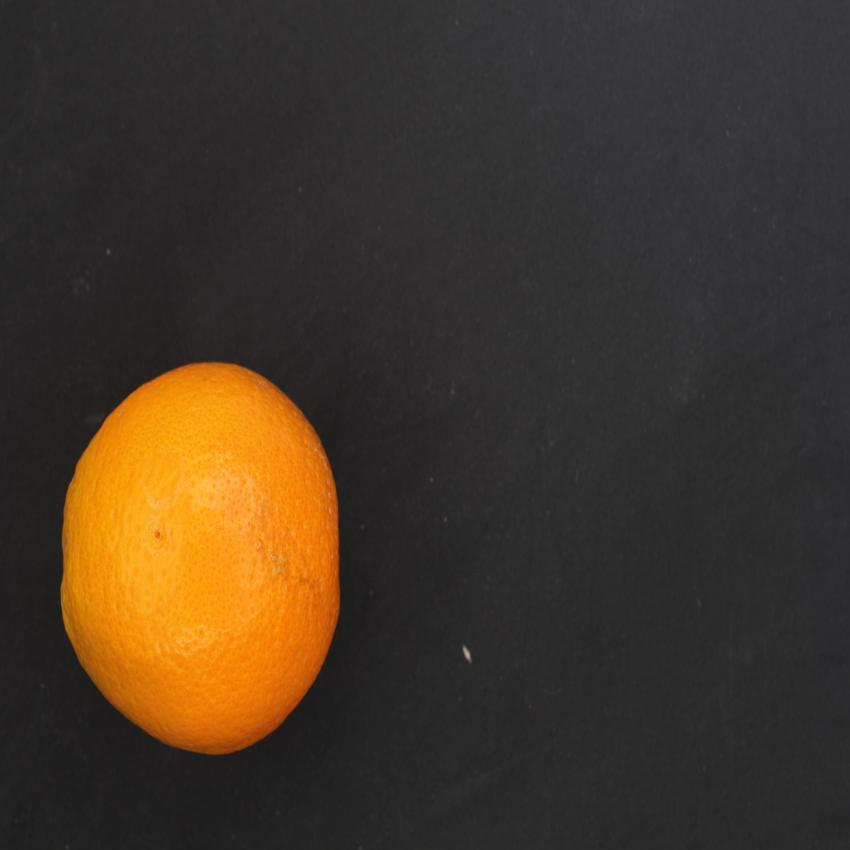Buen estado: (45, 352, 369, 770)
